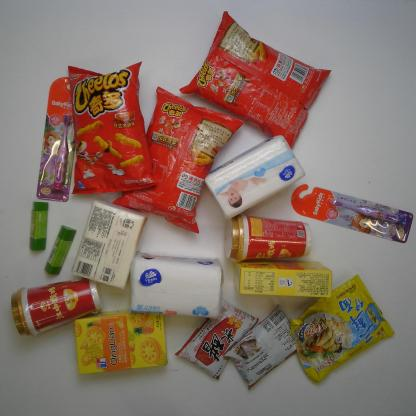Dessert: (74, 301, 171, 377), (226, 252, 334, 300)
Instant Drink: (8, 274, 108, 338), (220, 209, 314, 264)
Instant Noodles: (283, 272, 396, 386)
Personal Hygiene: (30, 71, 95, 204), (286, 183, 414, 245)
Puffed Food: (180, 10, 331, 151), (113, 86, 244, 235), (67, 61, 157, 200)
Seasoner: (171, 298, 262, 381), (219, 303, 306, 388)
Stationery: (44, 223, 79, 278), (26, 198, 50, 253)
Tissue: (203, 130, 311, 224), (123, 245, 227, 326), (71, 195, 153, 290)
